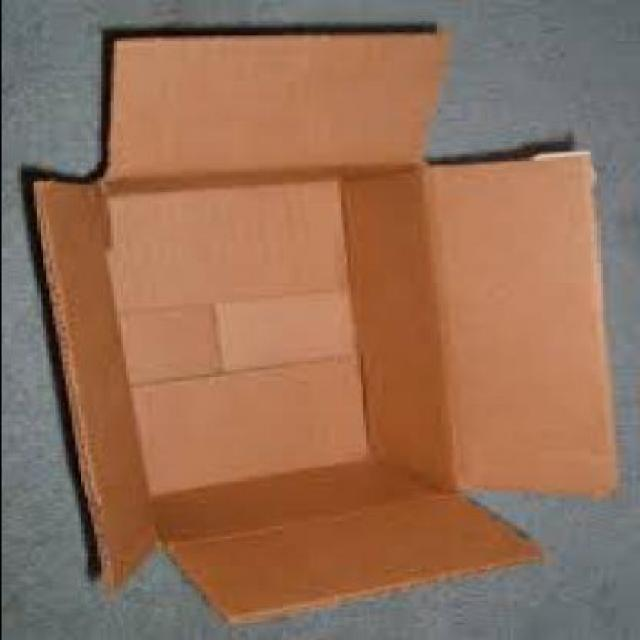box: (32, 26, 620, 623)
